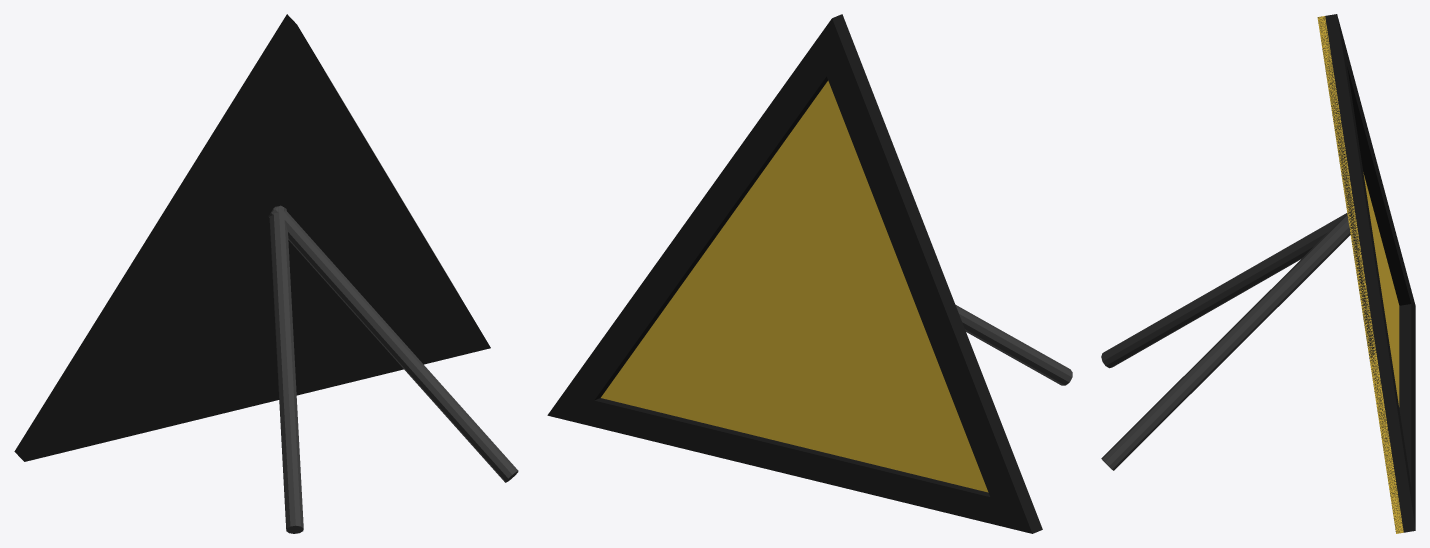
File: SignGround.fbx
The picture shows the model from 3 angles, left to right: view 1: azimuth 30°, elevation 25°; view 2: azimuth 150°, elevation 25°; view 3: azimuth 270°, elevation 25°; orthographic projection. The views are drawn at different scales.
Parts seen in each view (by area): view 1: Cylinder; view 2: Cylinder; view 3: Cylinder.
Part boxes in pixels (box(x1,y1,x2,y2)): Cylinder: box(14, 14, 518, 533); Cylinder: box(547, 14, 1072, 533); Cylinder: box(1101, 14, 1415, 533).
Size of the model in its own units: 150 by 127 by 88.73.
